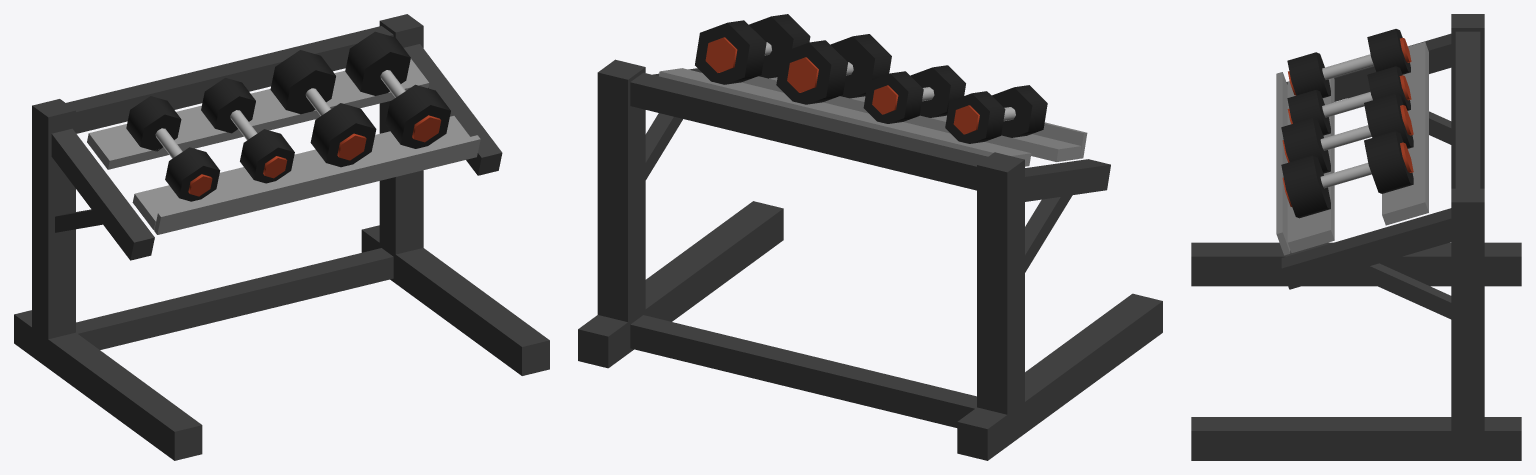
Rendered from Dumbbell_Rack_Basic.fbx.
The picture shows the model from 3 angles, left to right: view 1: azimuth 30°, elevation 25°; view 2: azimuth 150°, elevation 25°; view 3: azimuth 270°, elevation 25°; orthographic projection. The views are drawn at different scales.
Parts seen in each view (by area): view 1: Dumbbell_Rack_Basic; view 2: Dumbbell_Rack_Basic; view 3: Dumbbell_Rack_Basic.
Part boxes in pixels (box(x1,y1,x2,y2)): Dumbbell_Rack_Basic: box(14, 14, 549, 460); Dumbbell_Rack_Basic: box(578, 14, 1162, 460); Dumbbell_Rack_Basic: box(1191, 14, 1521, 460).
Bounding box in the file's own units: 108 × 77.98 × 80.
